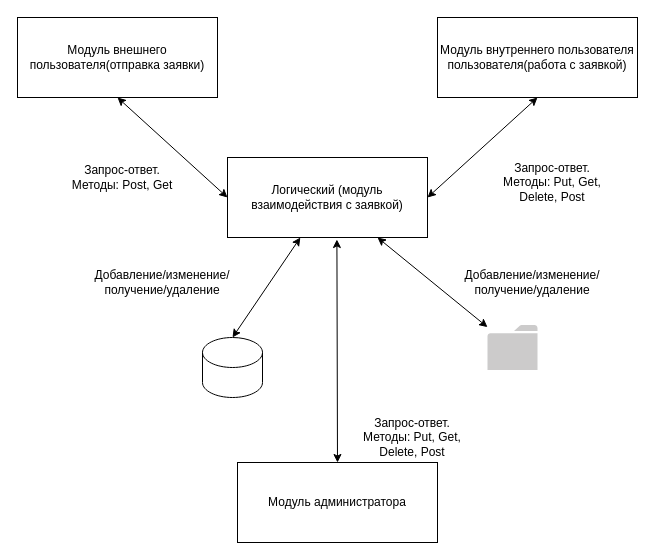
Some shapes in this 655 by 560 pixel diagram are drawn without their labels. Here are the shapes that lost their labels. From the top down, the centre of each, then its label:
(x=232, y=367): БД
(x=512, y=347): Хранилище договоров (в виде документа)
